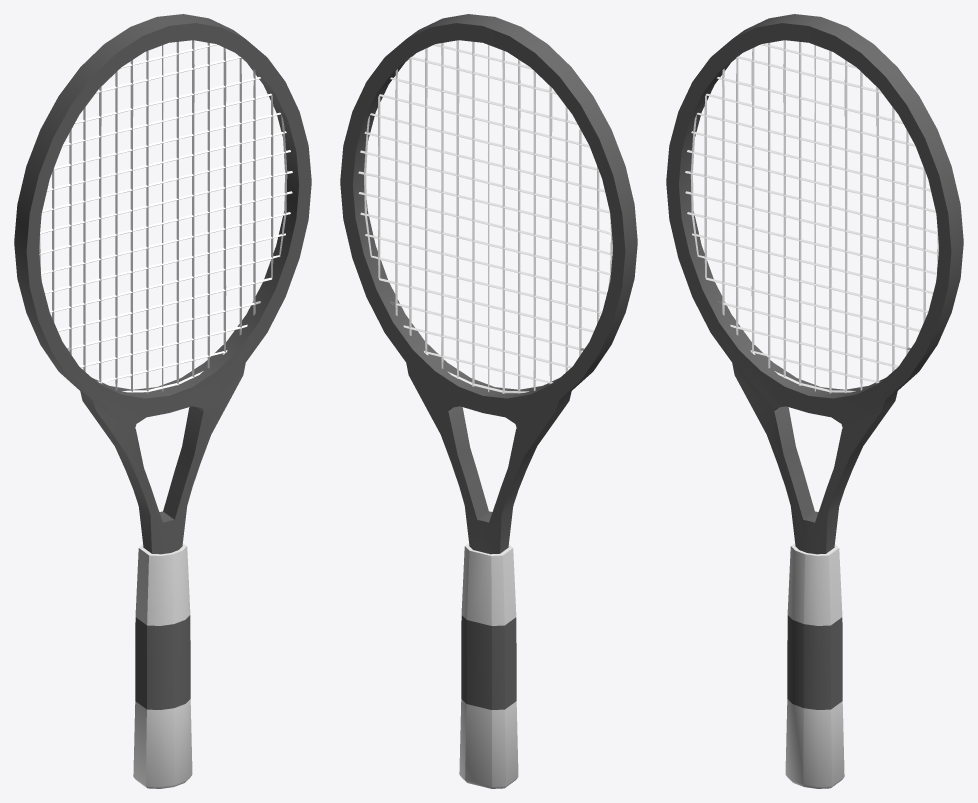
Rendered from Tennis Racket_3.fbx.
The picture shows the model from 3 angles, left to right: view 1: azimuth 30°, elevation 25°; view 2: azimuth 150°, elevation 25°; view 3: azimuth 330°, elevation 25°; orthographic projection.
Visible parts, largest first — view 1: Tennis Racket_3; view 2: Tennis Racket_3; view 3: Tennis Racket_3.
Part boxes in pixels (bbox=[...]): Tennis Racket_3: bbox=[14, 14, 311, 788]; Tennis Racket_3: bbox=[340, 14, 637, 788]; Tennis Racket_3: bbox=[666, 14, 963, 788].
Bounding box in the file's own units: 0.232 × 0.5887 × 0.0312.
